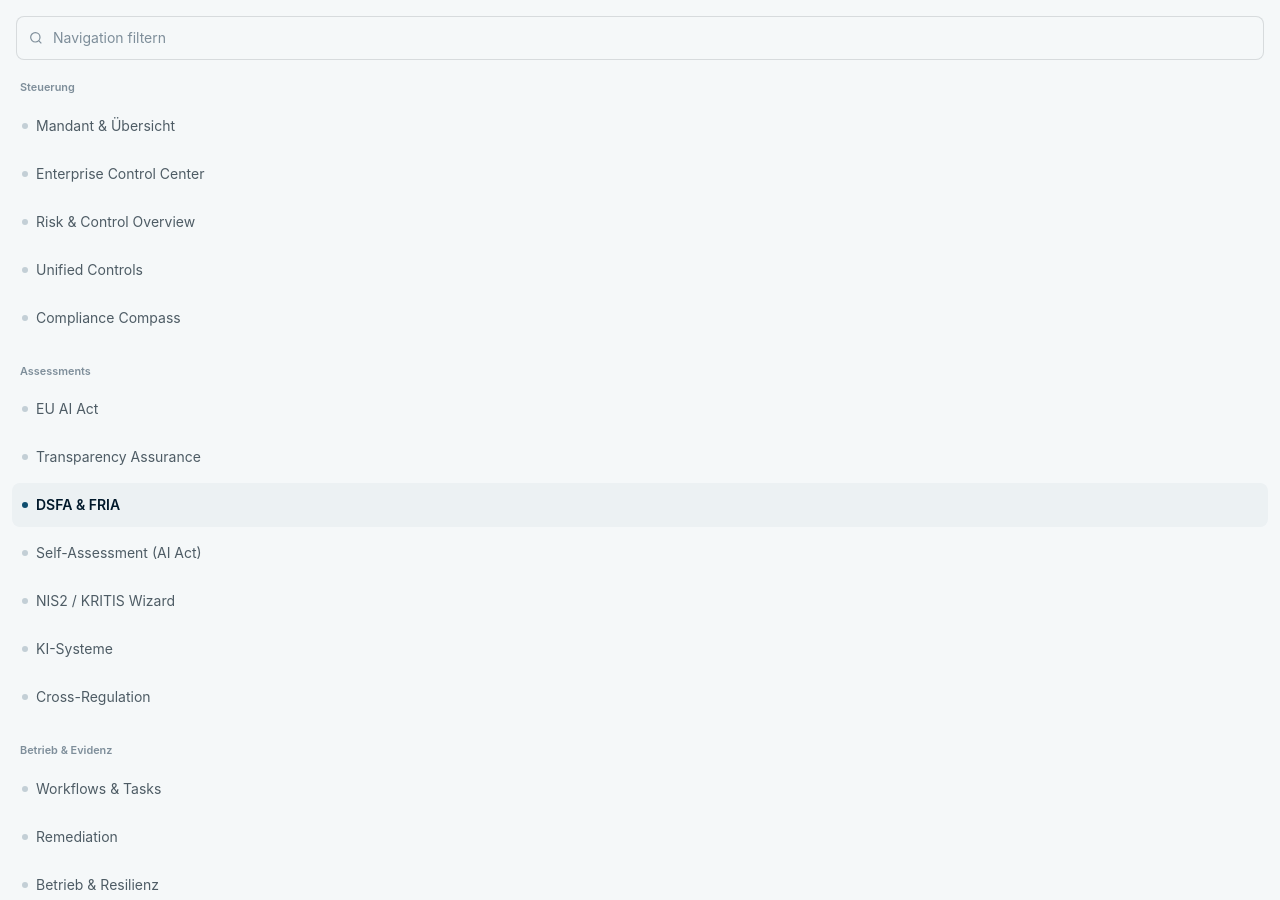
Test: TenantNav › filters labels and compliance keywords without removing the active destination
Type "Datenschutz Folgenabschätzung" into the search field named "Workspace-Navigation filtern" at (640, 38), box [16,16,1264,60]
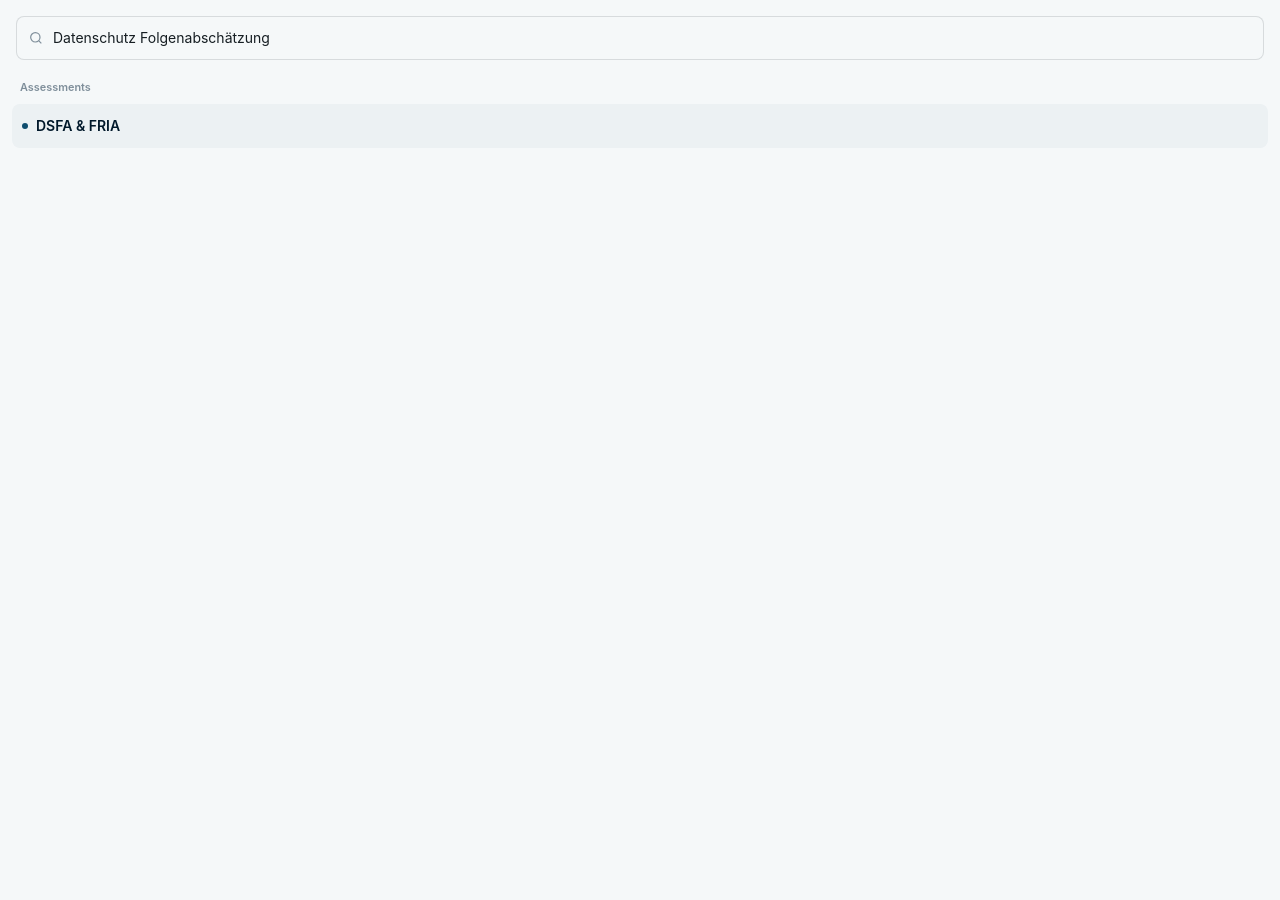
Expected: the link "DSFA & FRIA" is shown, [12,104,1268,148]
Result: the link "Enterprise Control Center" is gone
